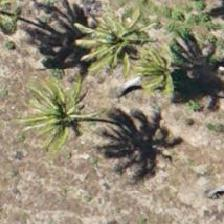coconut_tree: (122, 28, 212, 118), (10, 74, 100, 164), (74, 0, 164, 80)
